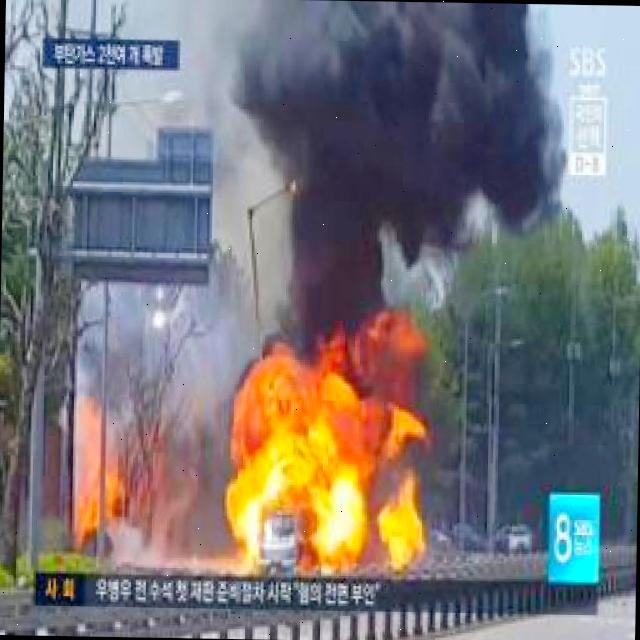fire: (225, 348, 422, 578), (72, 470, 123, 544)
